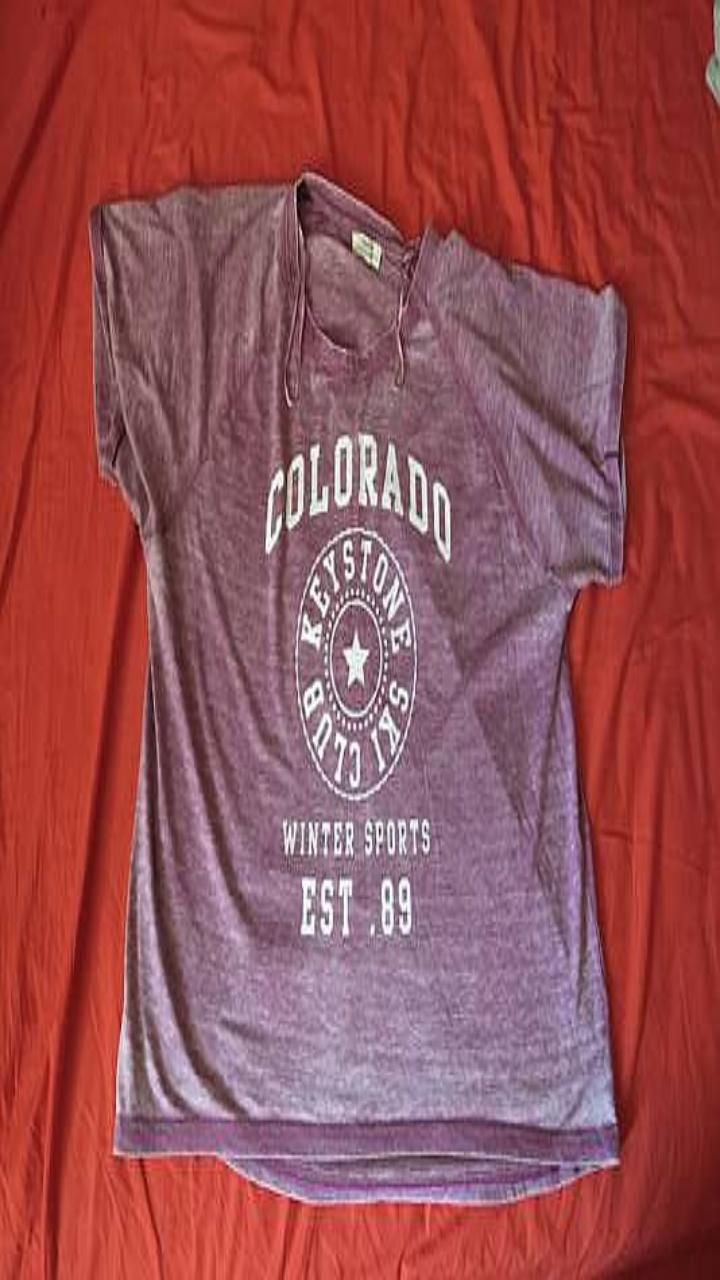T-Shirt: (88, 171, 625, 1201)
